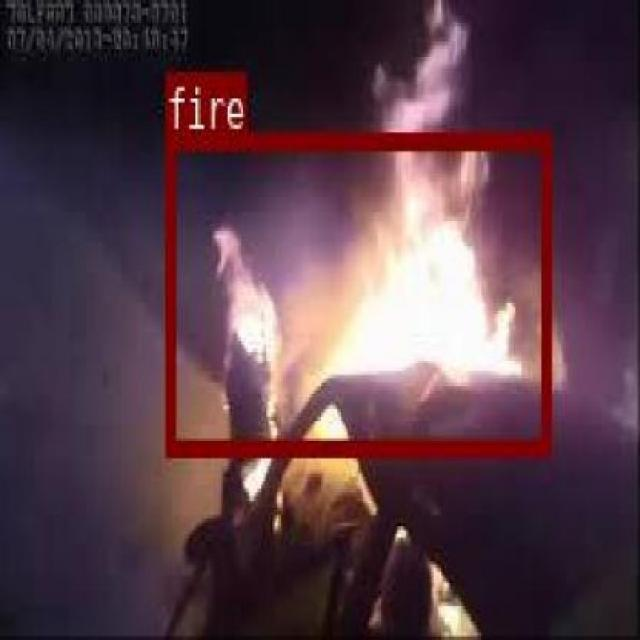Fire: (165, 130, 548, 453)
